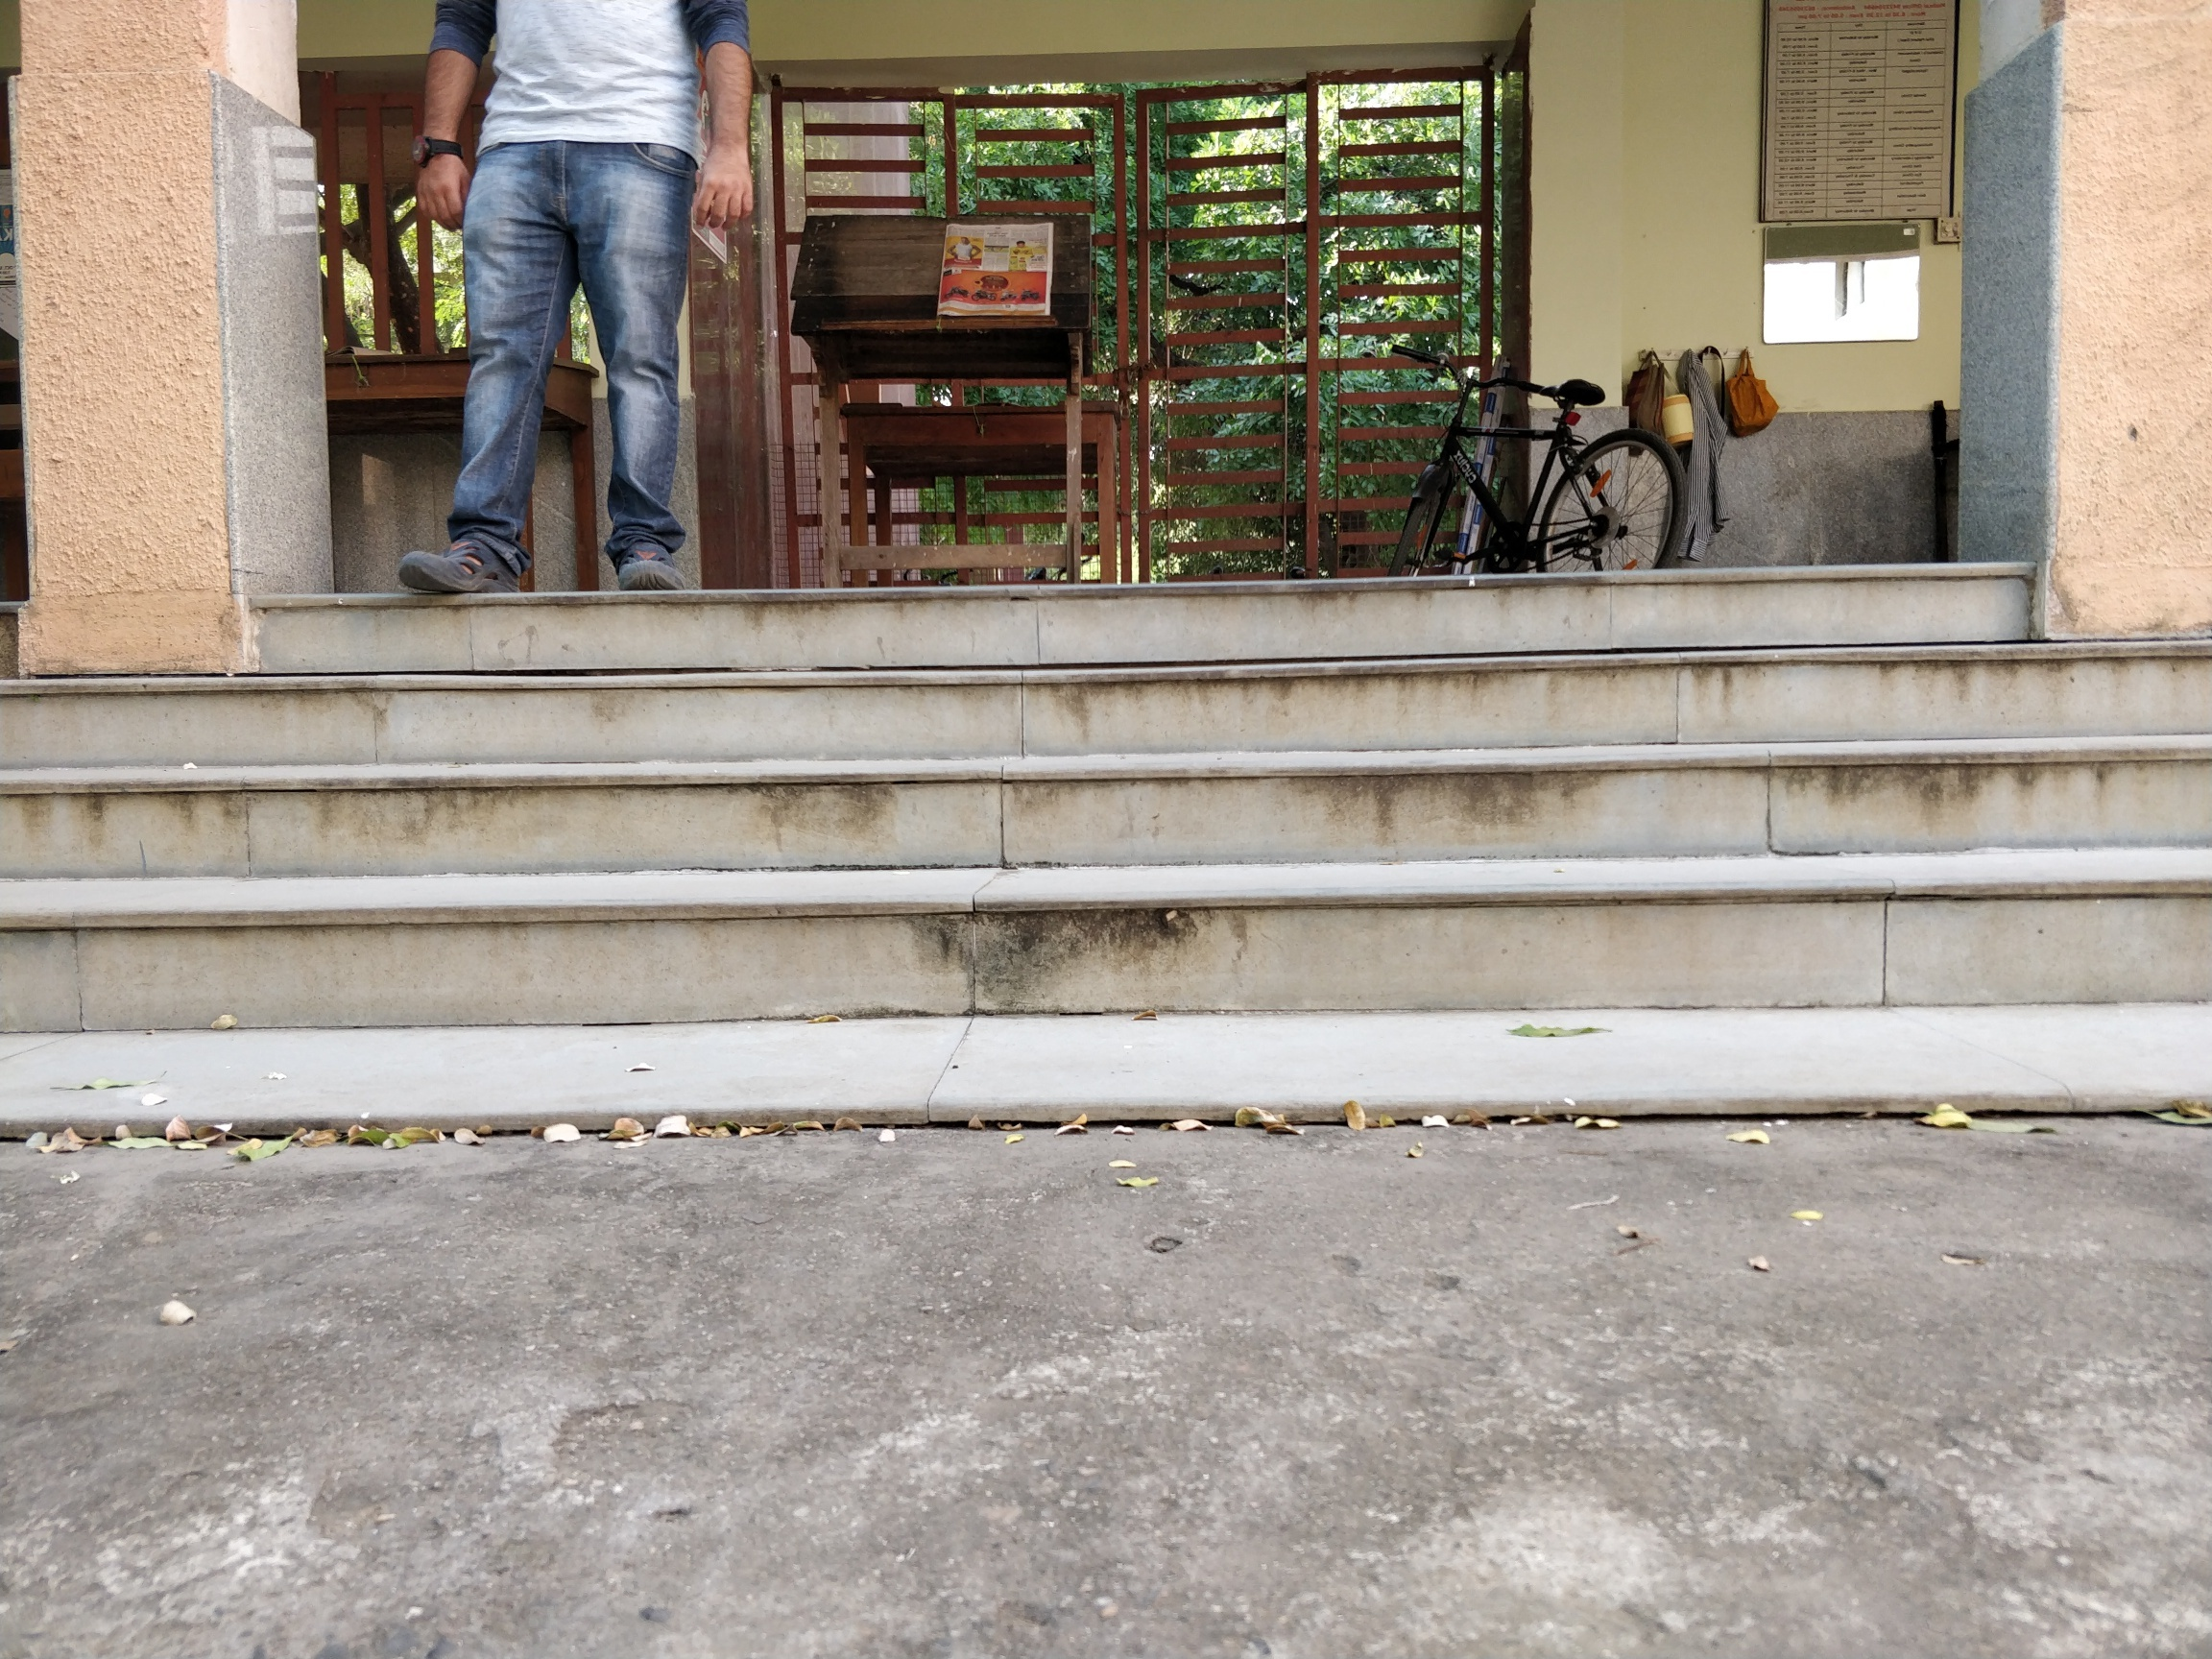stairs_up: (14, 584, 2212, 1051)
